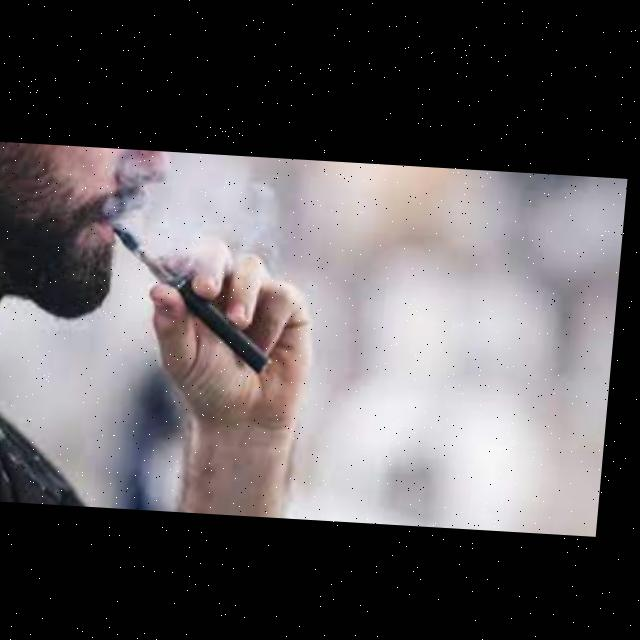vape: (107, 216, 289, 376)
